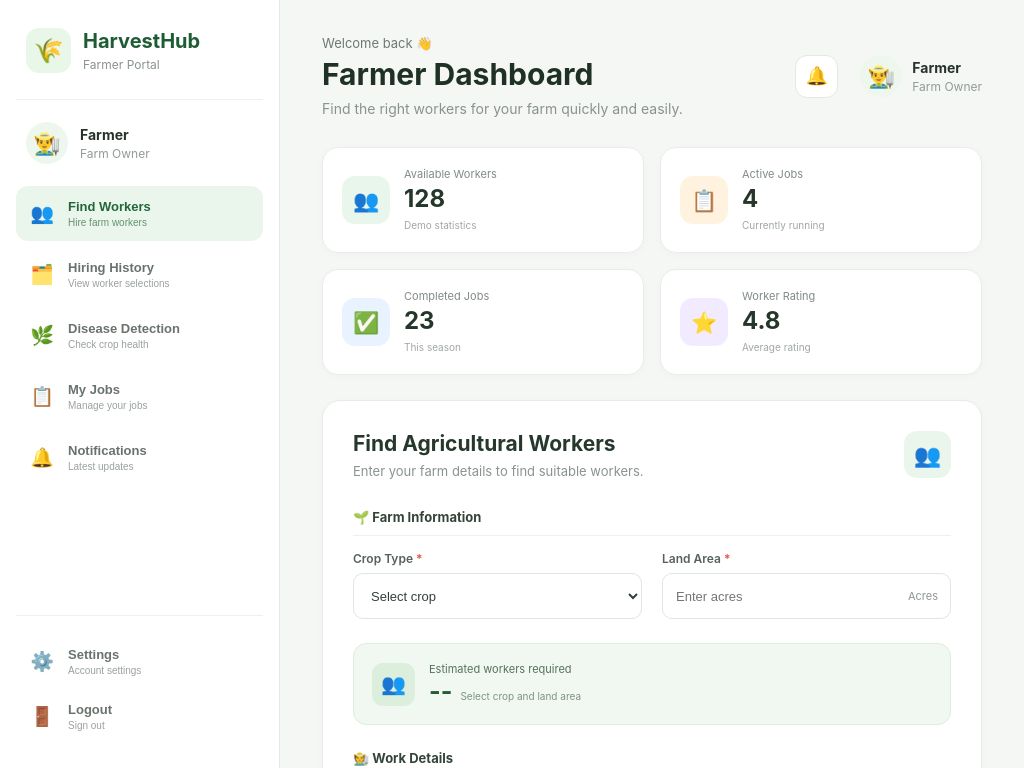
loads accepted workers from saved applications when farmer opens notifications
The width and height of the screenshot is (1024, 768).
Click the button "🔔 Notifications Latest updates": (140, 458) 16,430 -> 263,485
(page scrolled)
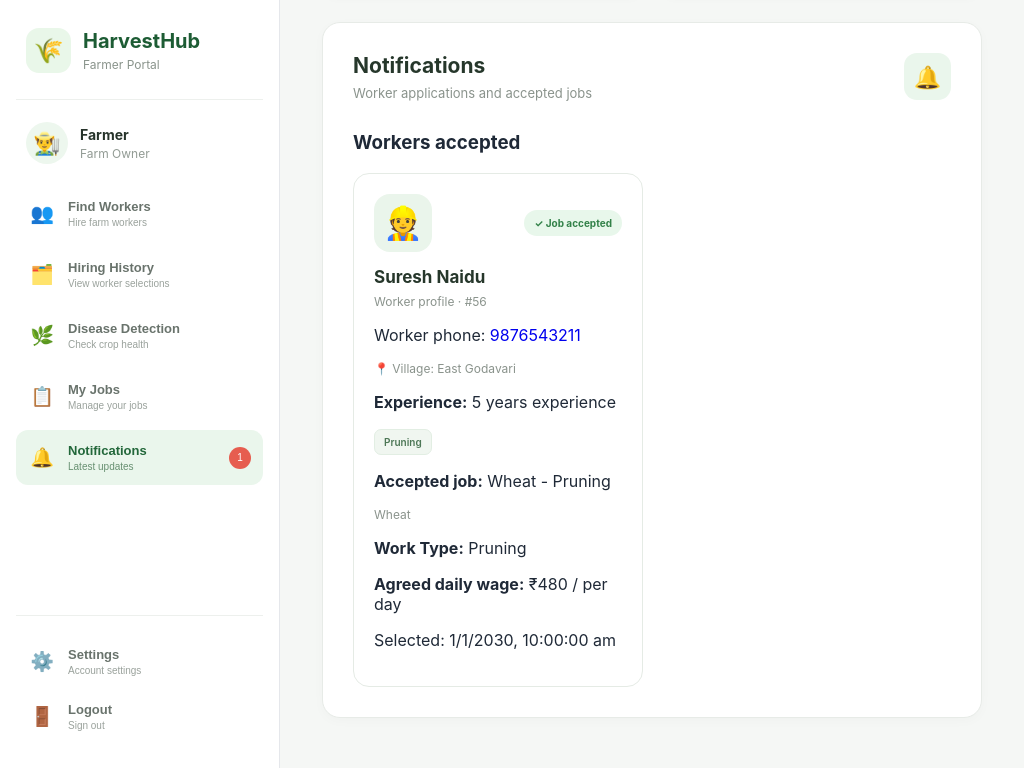
Check: the heading "Workers accepted" is shown, box 353,131 -> 520,154
Check: the heading "Suresh Naidu" is shown, box 374,267 -> 485,287
Check: the text "Wheat - Pruning" is shown, box 487,471 -> 611,491
